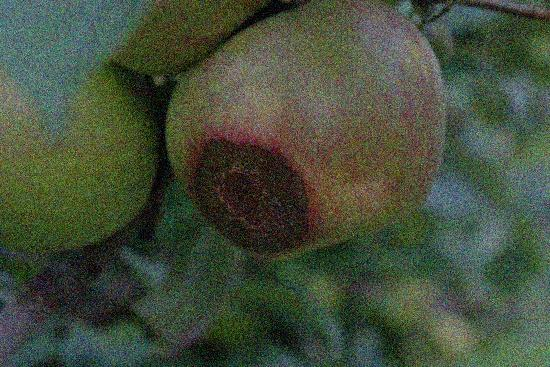rotten apple: (155, 1, 445, 268)
